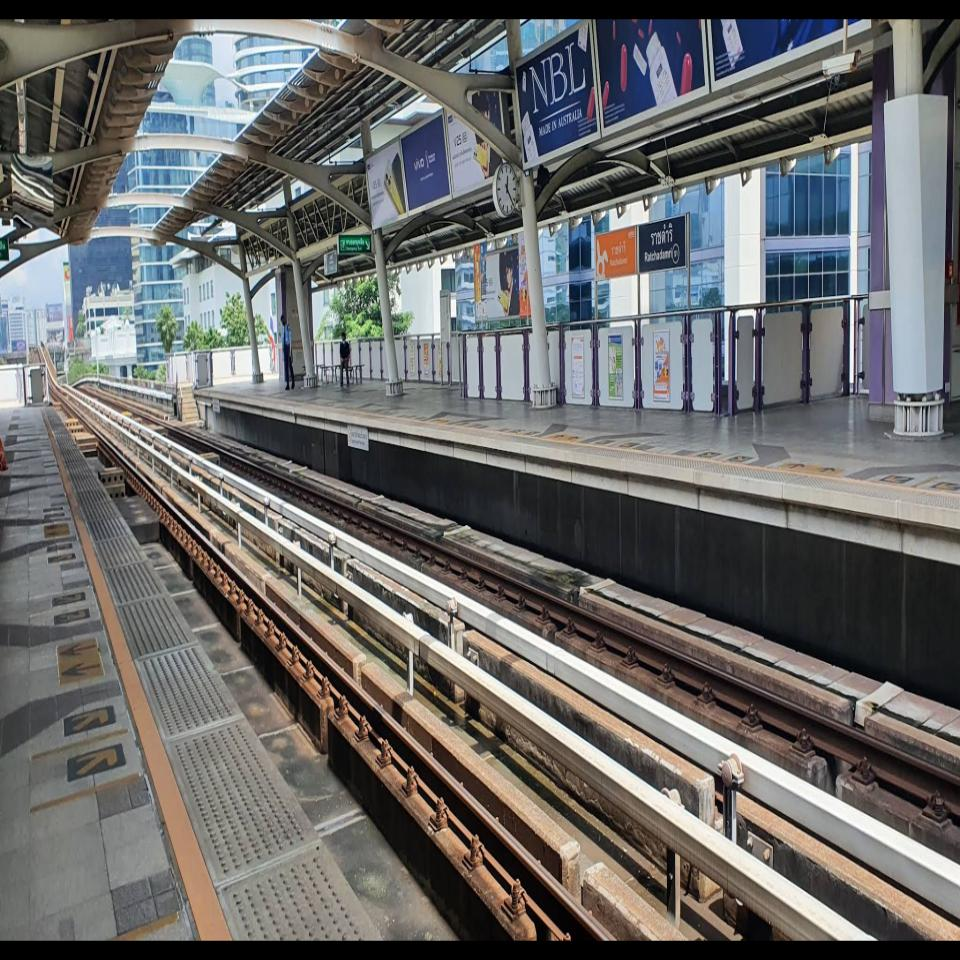signage: (637, 213, 688, 275), (595, 223, 637, 281)
